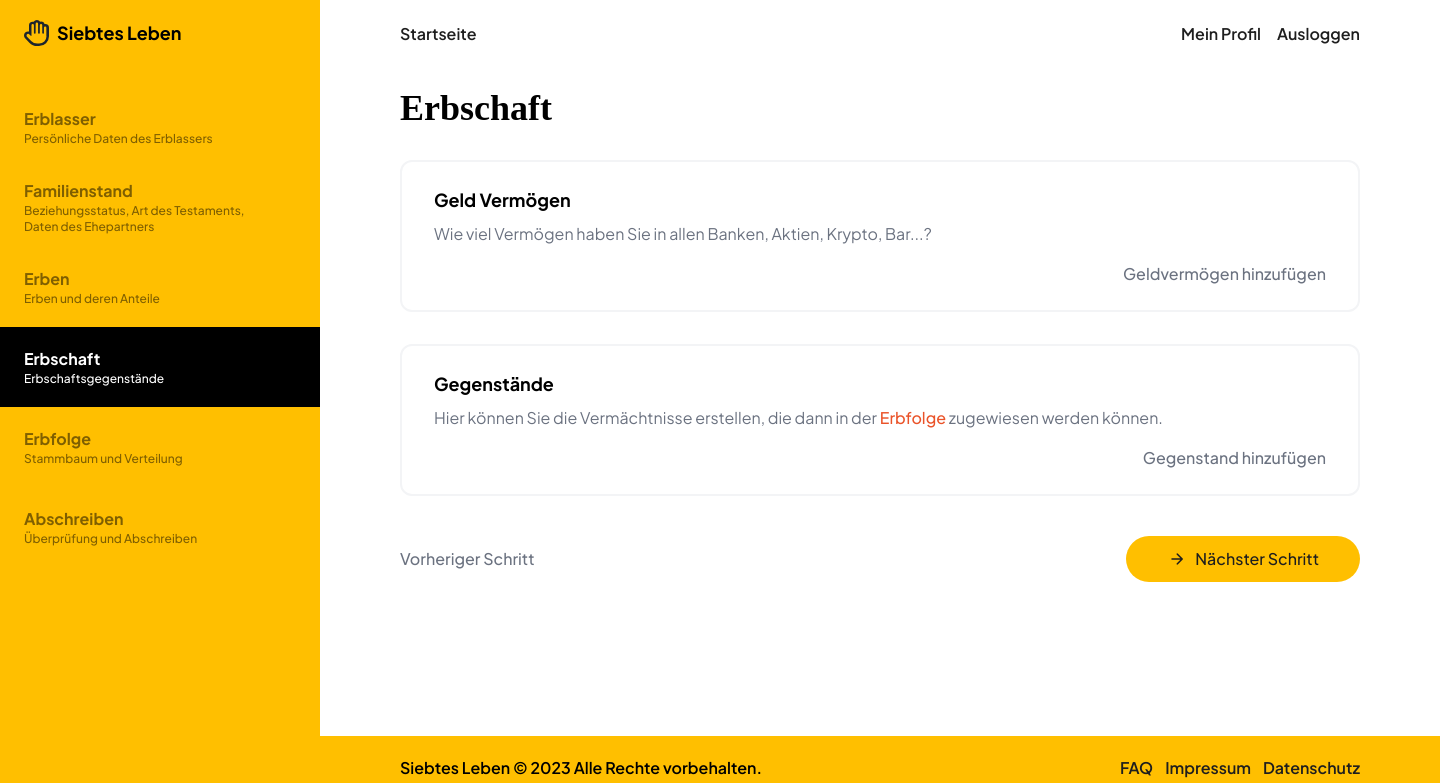
Test: Last Will Inheritance Page › Financial Assets › should add a financial asset
The image size is (1440, 783).
Click the button "Geldvermögen hinzufügen" at (1225, 274), box [1123, 262, 1326, 286]
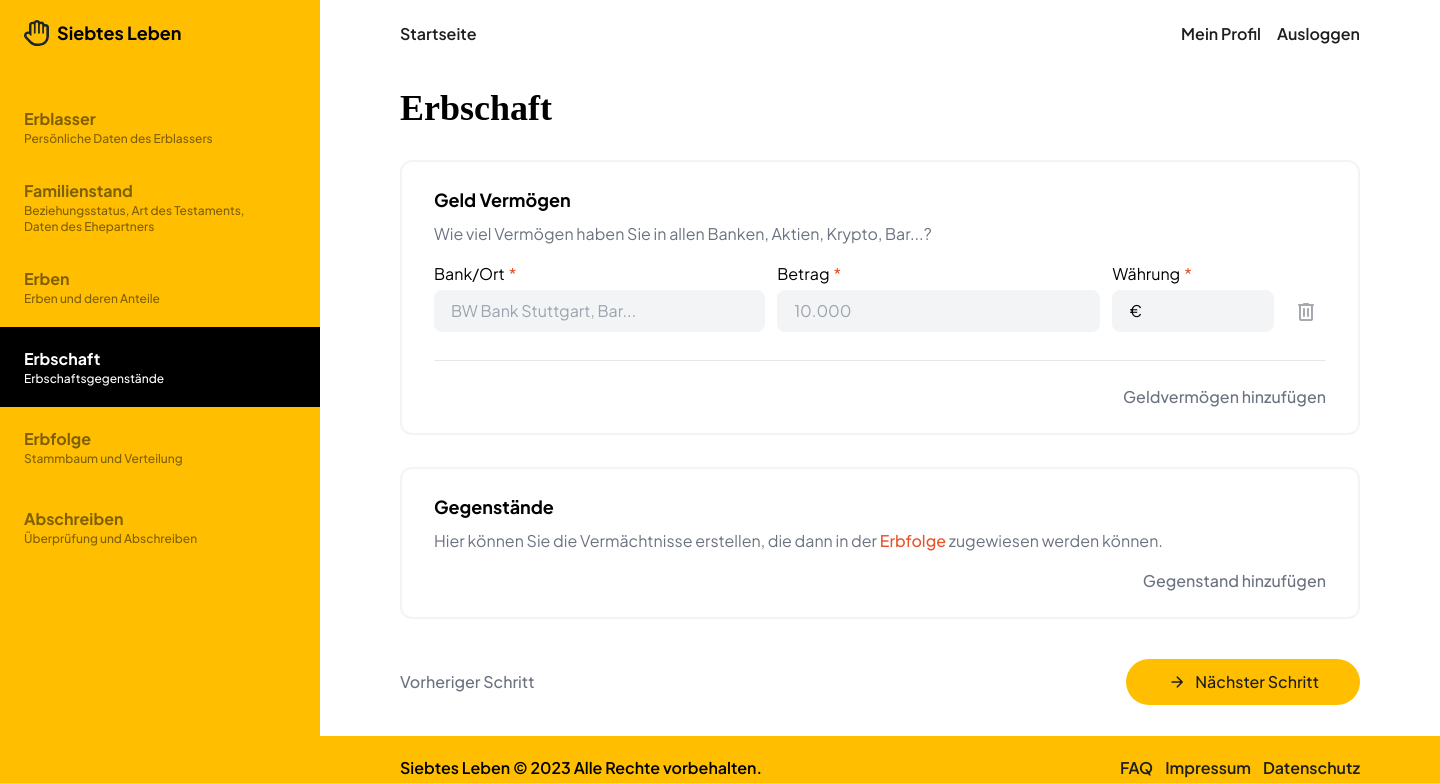
Click the button "Gegenstand hinzufügen" at (1235, 581), box [1143, 569, 1326, 593]
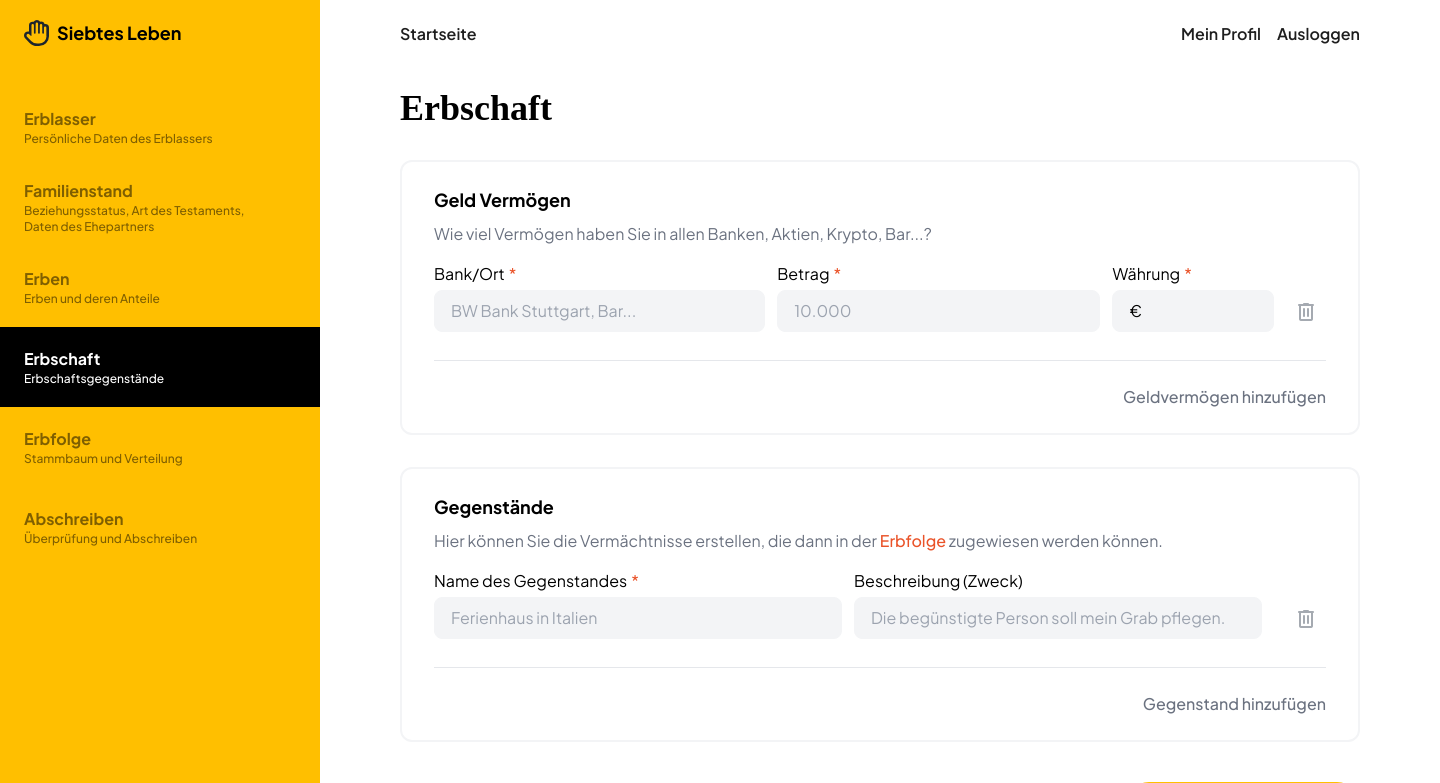
Click the button "Geldvermögen hinzufügen" at (1225, 397), box [1123, 385, 1326, 409]
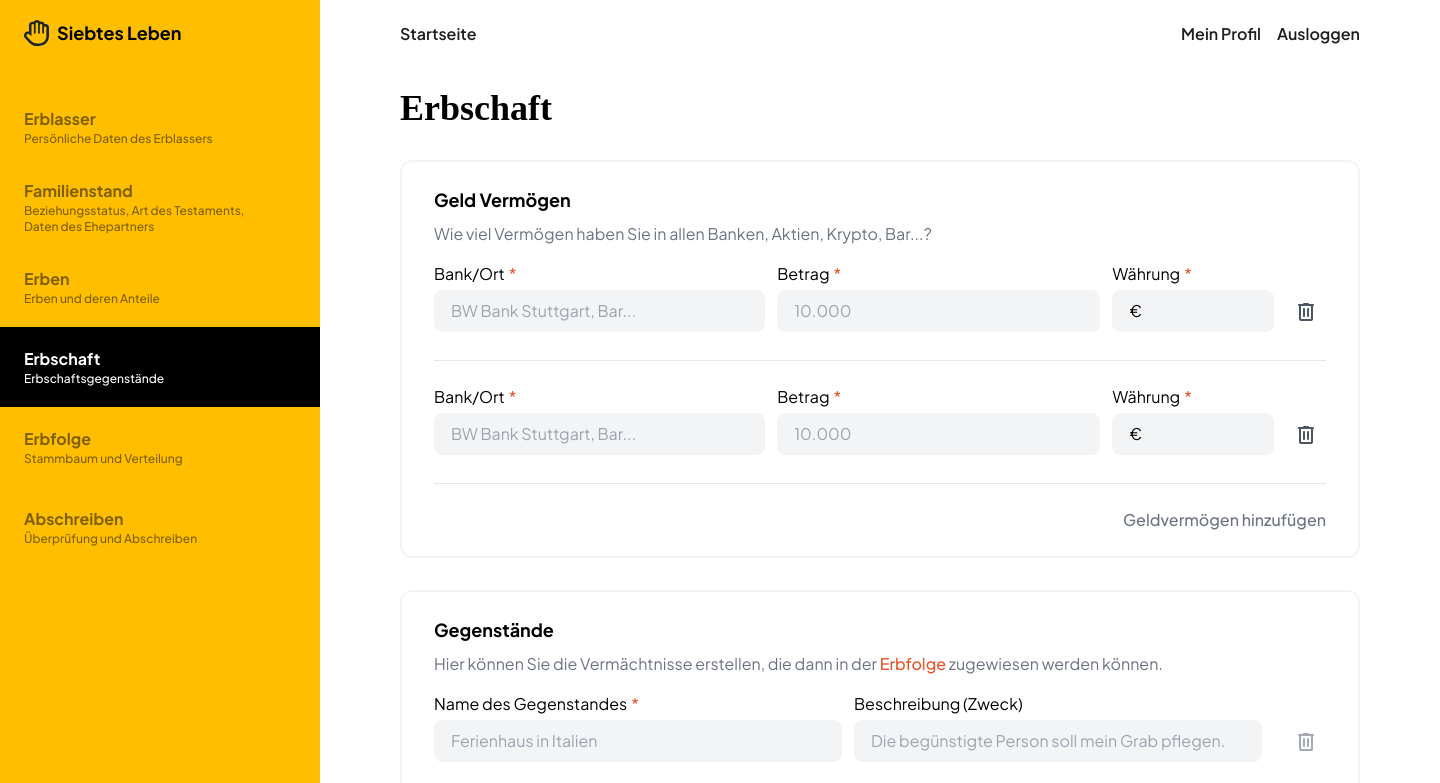
Result: the 2nd field labelled "Bank/Ort*" is shown at [434, 413, 765, 455]
